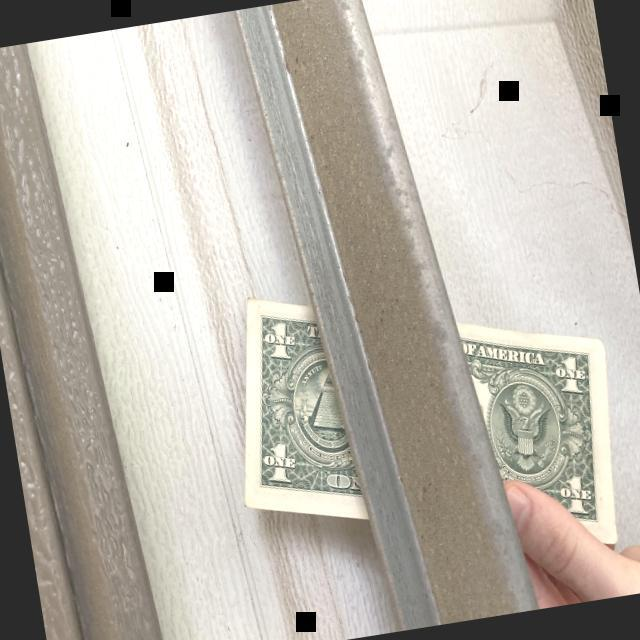one: (245, 295, 619, 545)
